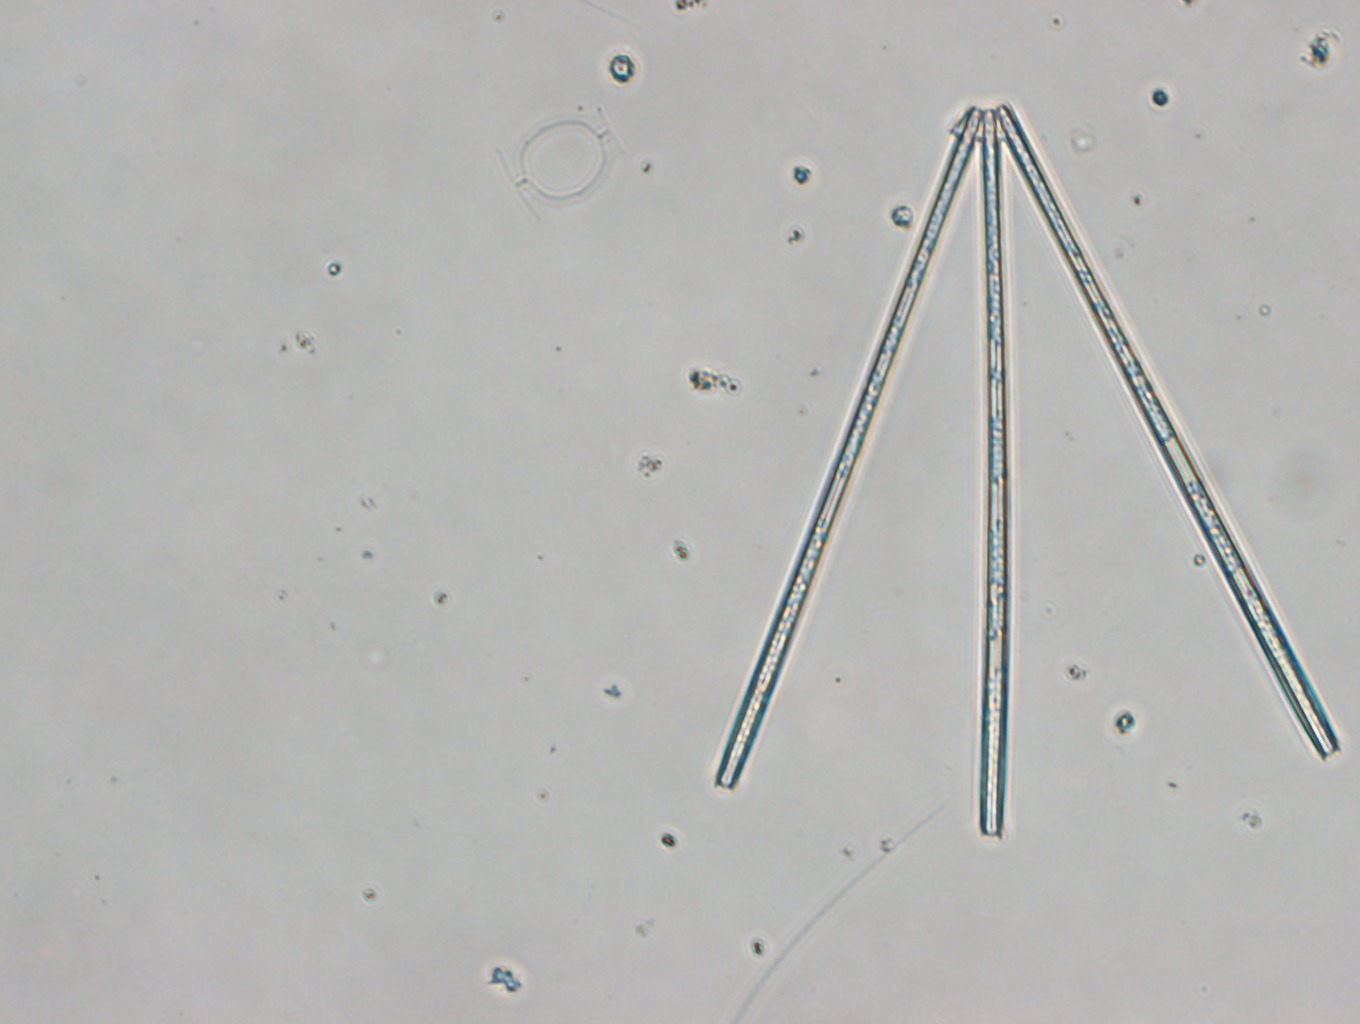eucampia: (498, 105, 626, 224)
thalassionema frauenfeldii: (712, 106, 1338, 839)
